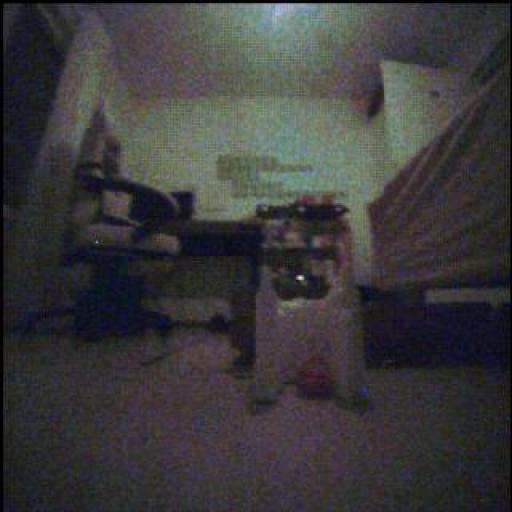basket: (296, 356, 335, 399)
